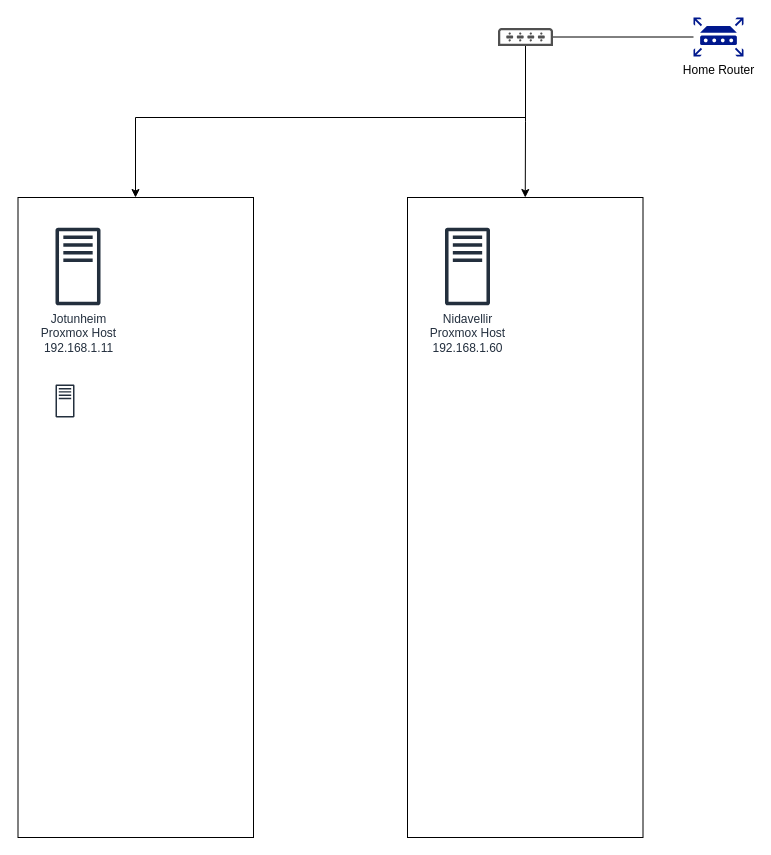
Image size: 771x855. Some labels were removed from this diagram. Here are the shapes that lost their labels. From the top down, the box of each, then its label:
(498, 28, 552, 46): Room Switch
(55, 384, 74, 417): Svol Wiki js 192.168.1.12
